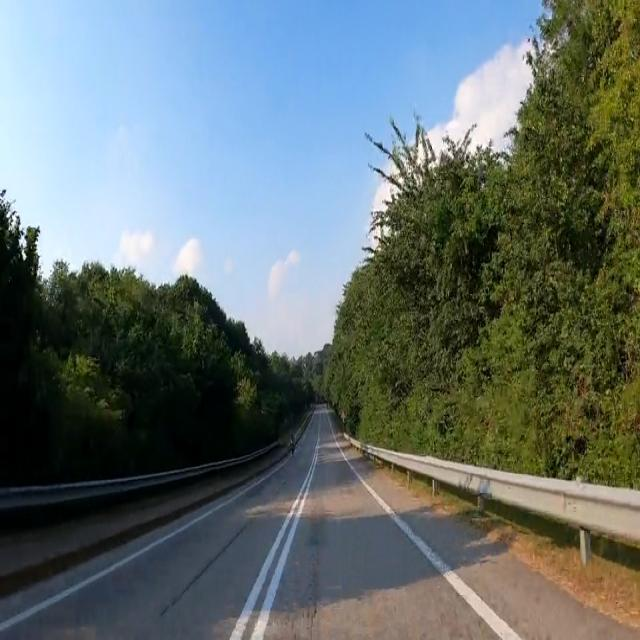lane: (0, 462, 285, 632), (332, 432, 521, 640), (251, 436, 319, 640), (230, 493, 299, 640)
